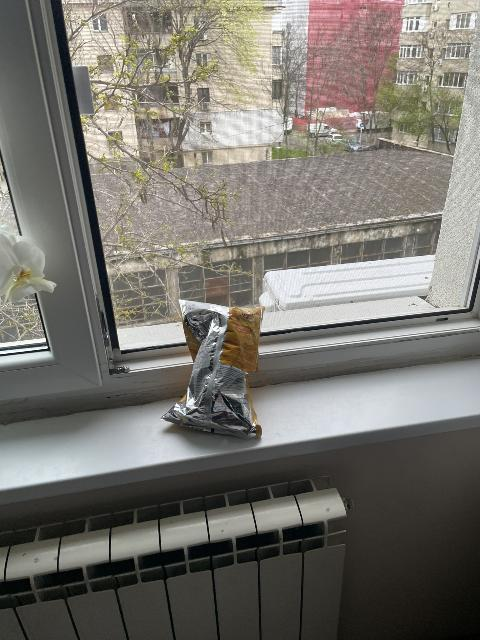Chio Hula Hoops Cheese 70g: (160, 301, 265, 439)
